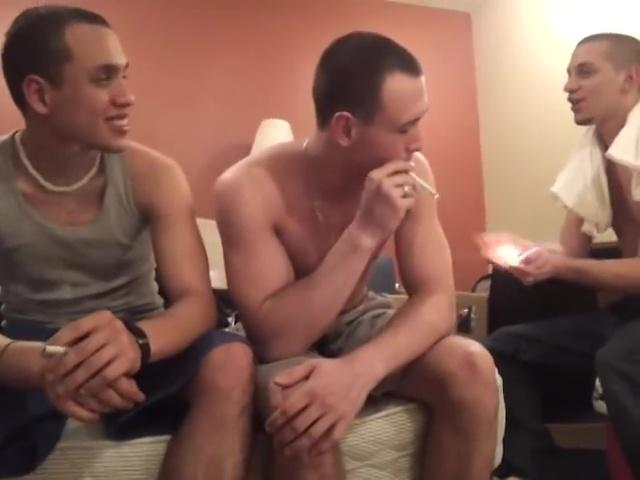cigarette: (409, 169, 441, 201), (41, 341, 73, 354)
